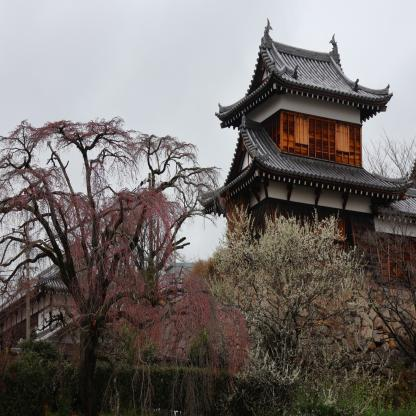Ume: (0, 113, 246, 416), (206, 202, 382, 416)
